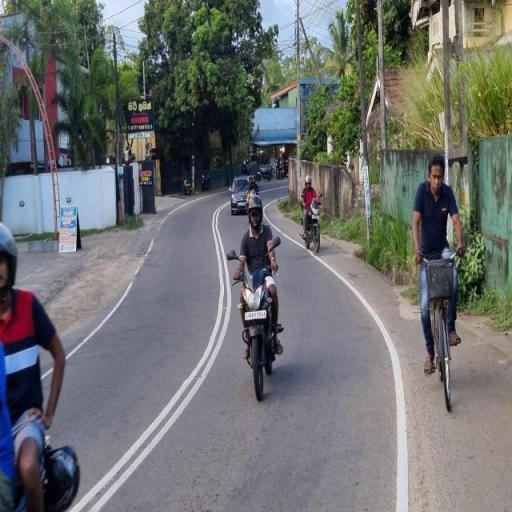double_white_line: (74, 206, 230, 510)
